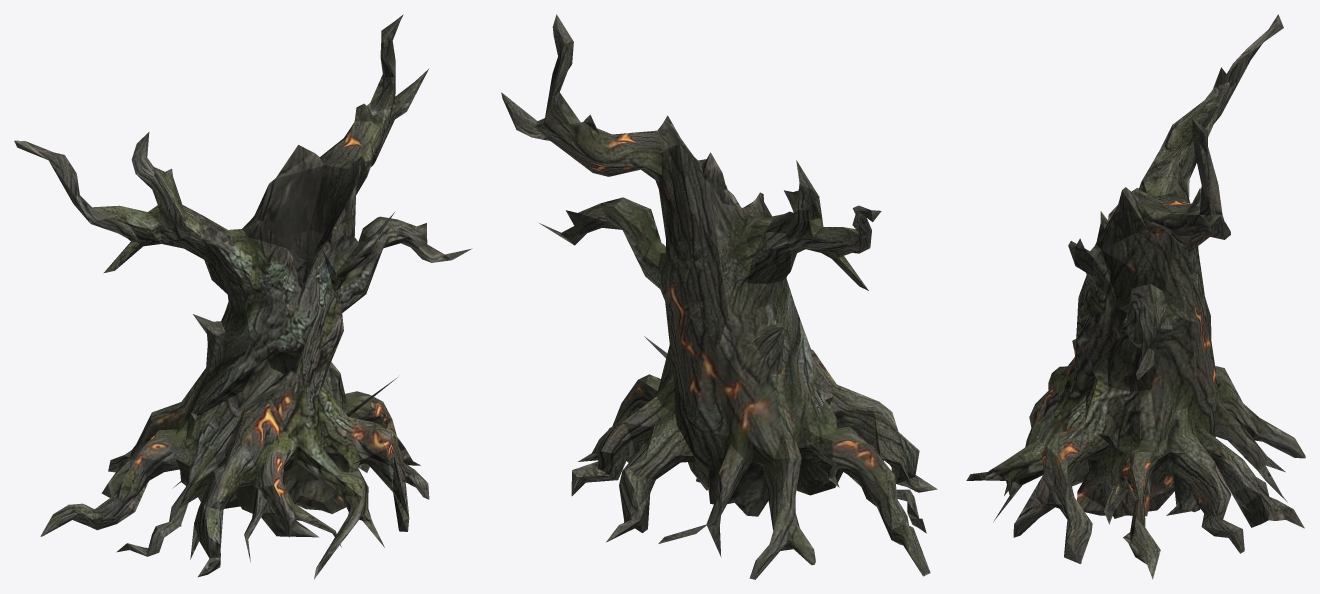
Rendered from world-cursedtree.glb.
3 renders of one model, left to right at view 1: azimuth 30°, elevation 25°; view 2: azimuth 150°, elevation 25°; view 3: azimuth 270°, elevation 25°, orthographic. The views are drawn at different scales.
Parts seen in each view (by area): view 1: output_unwrapped; view 2: output_unwrapped; view 3: output_unwrapped.
Part boxes in pixels (box(x1,y1,x2,y2)): output_unwrapped: box(14, 14, 472, 579); output_unwrapped: box(501, 14, 937, 579); output_unwrapped: box(966, 14, 1305, 579).
Bounding box in the file's own units: 4.77 × 5 × 3.3.
1 material, 1 textured.
